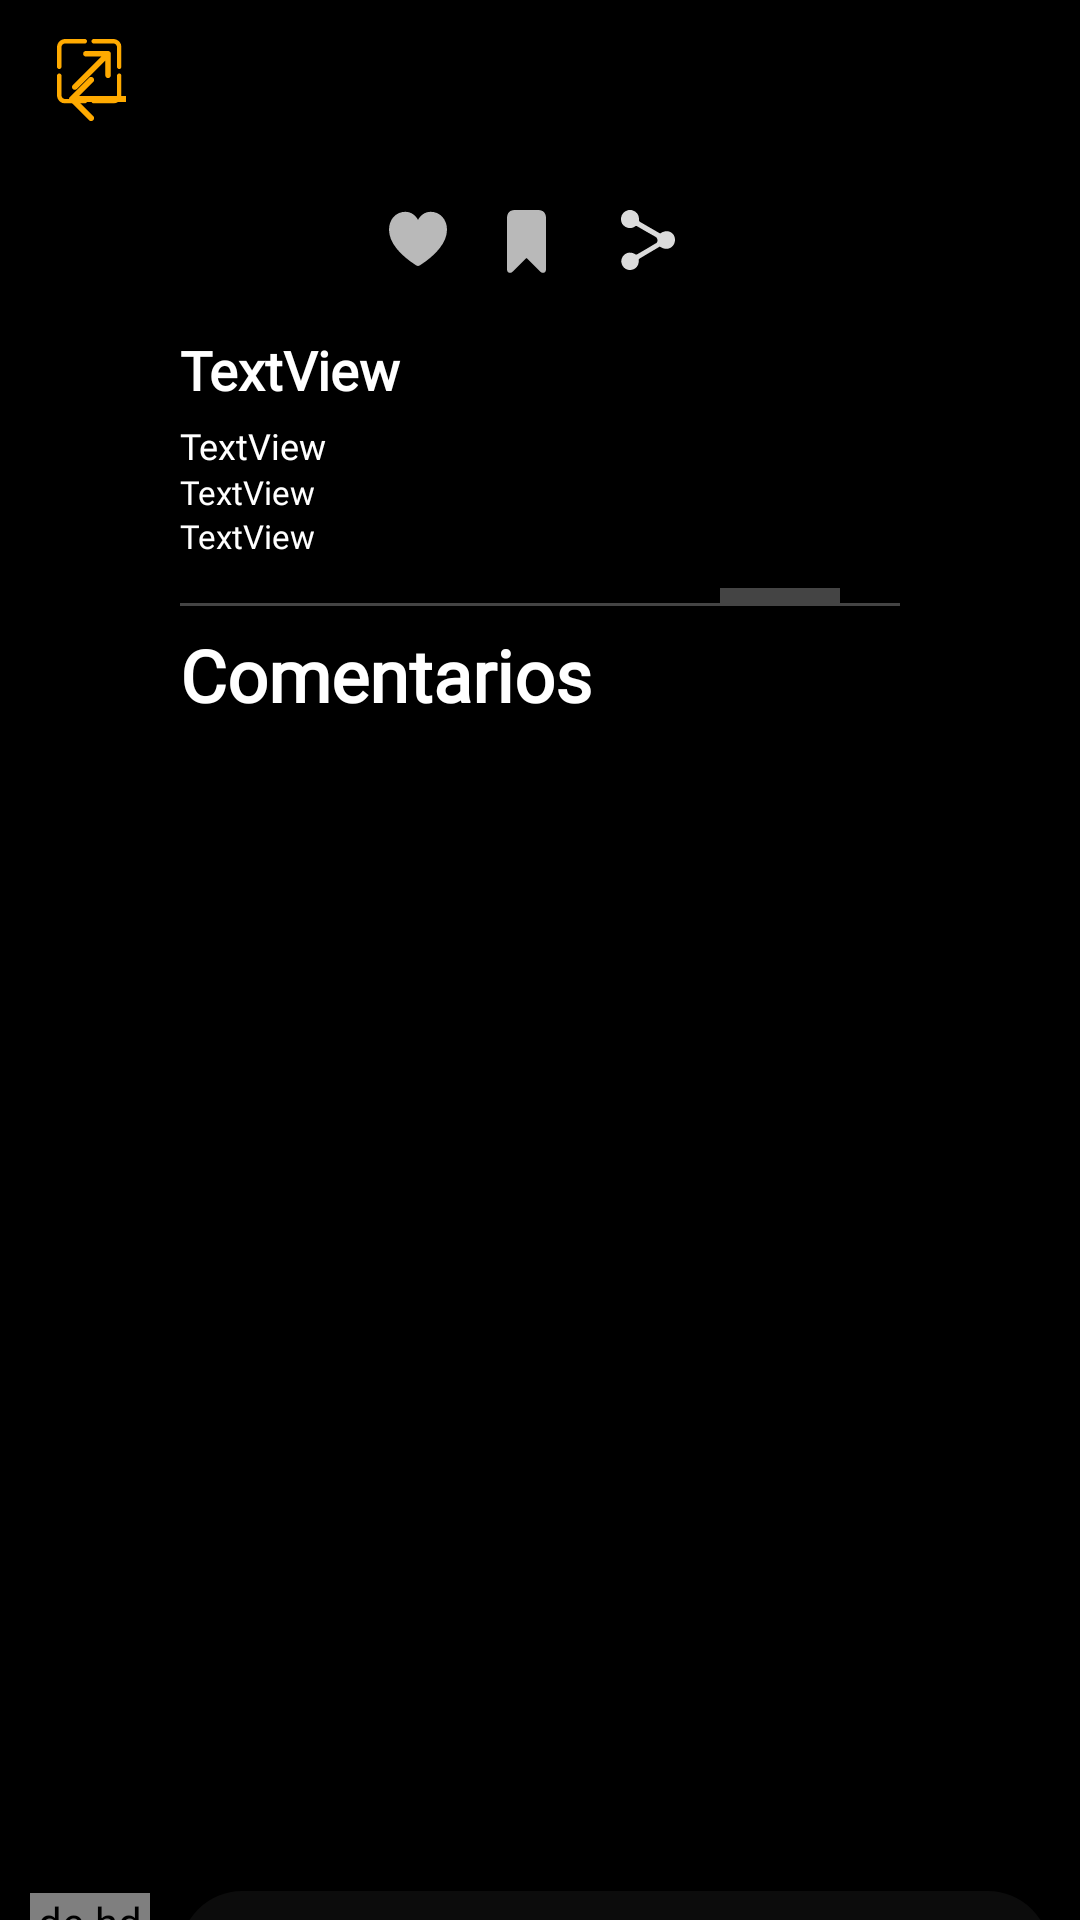

Locate icon controls on the screen. Image size 1080w x 1920h, boxes as bbox(x1, y1, x2, y2).
like: bbox(389, 211, 447, 266)
save: bbox(507, 210, 546, 273)
share: bbox(621, 210, 675, 270)
